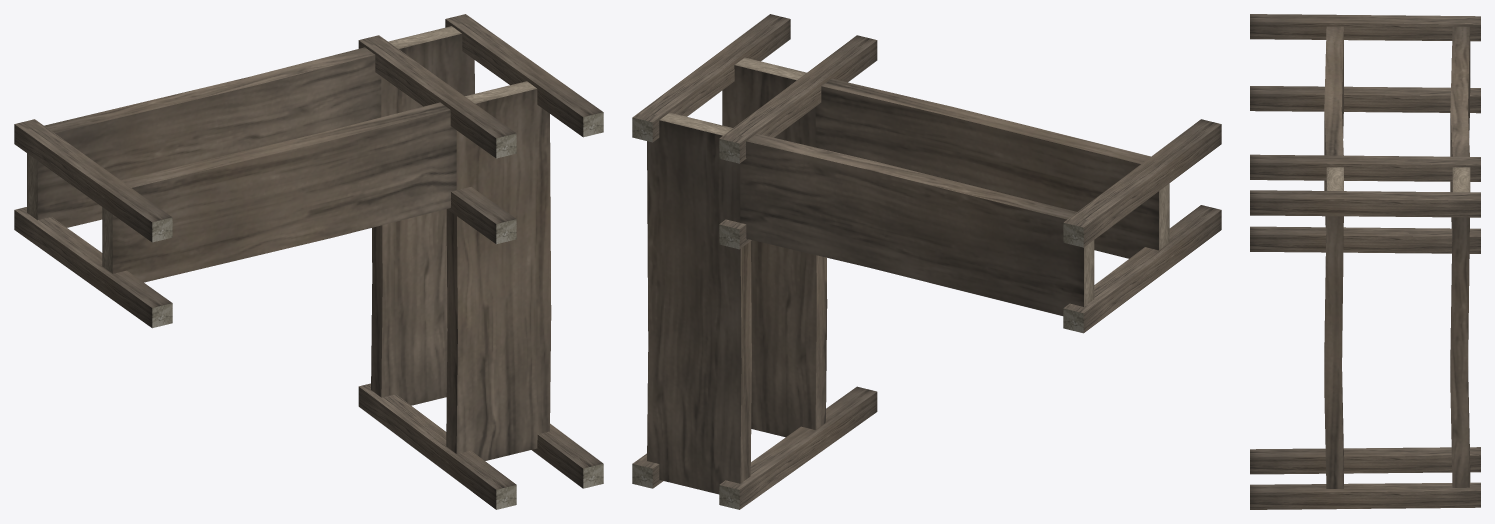
The model's file is Counter_Corner_R_C.fbx.
3 views of the same model, side by side, from view 1: azimuth 30°, elevation 25°; view 2: azimuth 150°, elevation 25°; view 3: azimuth 270°, elevation 25° (orthographic). The views are drawn at different scales.
Visible parts, largest first — view 1: Counter_Corner_R_C; view 2: Counter_Corner_R_C; view 3: Counter_Corner_R_C.
Part boxes in pixels (x1,y1,x2,y2): Counter_Corner_R_C: (14,14,603,509); Counter_Corner_R_C: (632,14,1221,509); Counter_Corner_R_C: (1250,14,1480,509).
Size of the model in its own units: 4.29 by 3.37 by 2.27.
